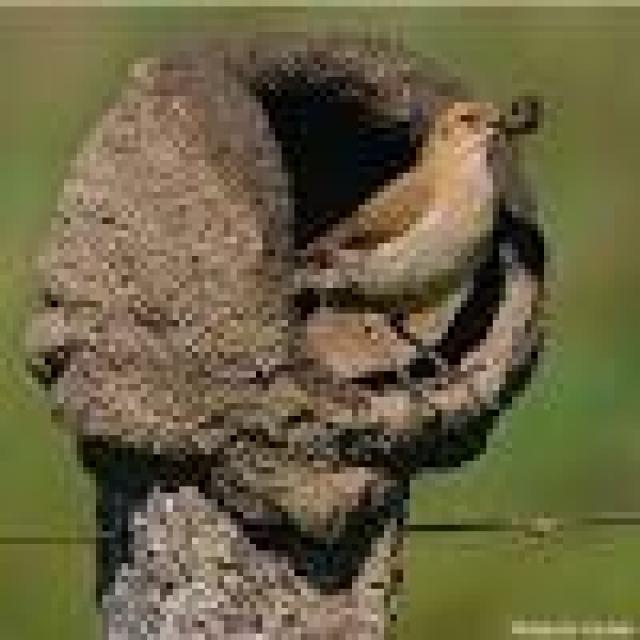bird: (269, 80, 589, 413)
